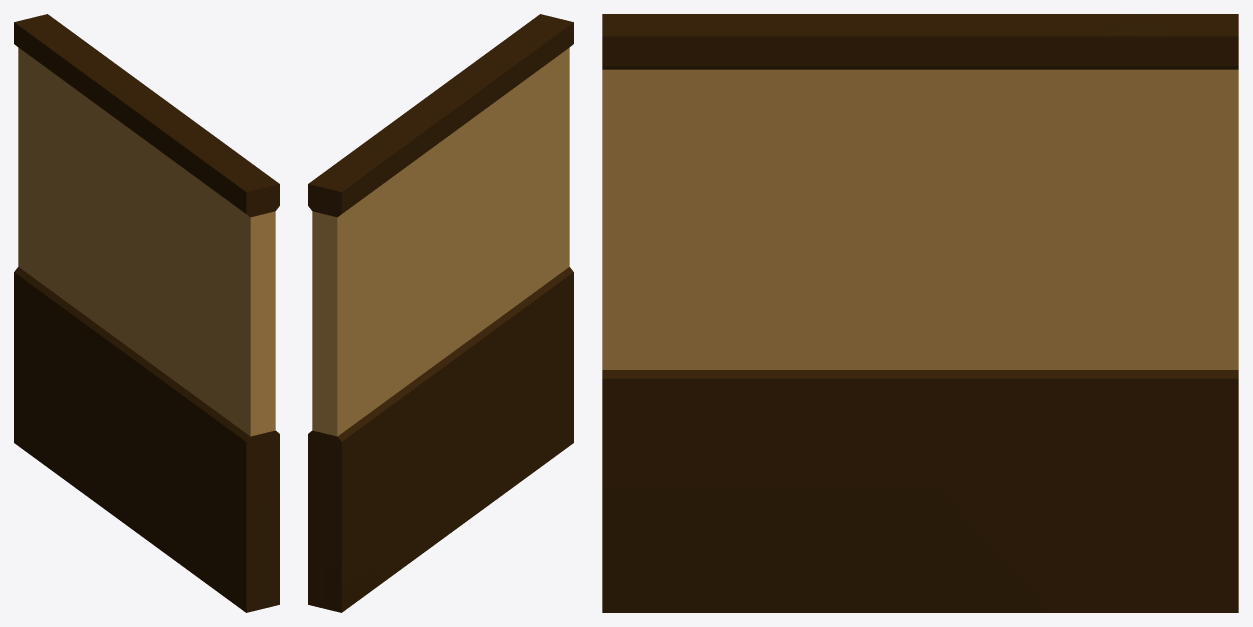
The model's file is Classic_Wall_snaps001.fbx.
The picture shows the model from 3 angles, left to right: view 1: azimuth 30°, elevation 25°; view 2: azimuth 150°, elevation 25°; view 3: azimuth 270°, elevation 25°; orthographic projection. The views are drawn at different scales.
Parts seen in each view (by area): view 1: Classic_Wall_snaps001_frag_001_frag_011, Classic_Wall_snaps001_frag_003_frag_018, Classic_Wall_snaps001_frag_005_frag_008, Classic_Wall_snaps001_frag_005_frag_002, Classic_Wall_snaps001_frag_014_frag_009, Classic_Wall_snaps001_frag_005_frag_011, Classic_Wall_snaps001_frag_001_frag_005, Classic_Wall_snaps001_frag_005_frag_007, Classic_Wall_snaps001_frag_012_frag_003, Classic_Wall_snaps001_frag_012_frag_009, Classic_Wall_snaps001_frag_014_frag_008, Classic_Wall_snaps001_frag_005_frag_010 (+51 smaller); view 2: Classic_Wall_snaps001_frag_005_frag_002, Classic_Wall_snaps001_frag_005_frag_008, Classic_Wall_snaps001_frag_001_frag_011, Classic_Wall_snaps001_frag_014_frag_008, Classic_Wall_snaps001_frag_005_frag_007, Classic_Wall_snaps001_frag_003_frag_018, Classic_Wall_snaps001_frag_014_frag_009, Classic_Wall_snaps001_frag_005_frag_011, Classic_Wall_snaps001_frag_012_frag_003, Classic_Wall_snaps001_frag_014_frag_012, Classic_Wall_snaps001_frag_012_frag_009, Classic_Wall_snaps001_frag_005_frag_010 (+47 smaller); view 3: Classic_Wall_snaps001_frag_005_frag_008, Classic_Wall_snaps001_frag_005_frag_011, Classic_Wall_snaps001_frag_014_frag_008, Classic_Wall_snaps001_frag_005_frag_006, Classic_Wall_snaps001_frag_012_frag_002, Classic_Wall_snaps001_frag_003_frag_018, Classic_Wall_snaps001_frag_001_frag_009, Classic_Wall_snaps001_frag_014_frag_012, Classic_Wall_snaps001_frag_001_frag_011, Classic_Wall_snaps001_frag_012_frag_009, Classic_Wall_snaps001_frag_005_frag_009, Classic_Wall_snaps001_frag_001_frag_001 (+47 smaller).
Boxes of the visible parts, box(x1,y1,x2,y2) form: Classic_Wall_snaps001_frag_001_frag_011: box(202, 358, 279, 557); Classic_Wall_snaps001_frag_003_frag_018: box(191, 218, 275, 353); Classic_Wall_snaps001_frag_005_frag_008: box(39, 22, 99, 257); Classic_Wall_snaps001_frag_005_frag_002: box(14, 182, 68, 335); Classic_Wall_snaps001_frag_014_frag_009: box(14, 357, 103, 443); Classic_Wall_snaps001_frag_005_frag_011: box(79, 118, 128, 270); Classic_Wall_snaps001_frag_001_frag_005: box(193, 524, 279, 612); Classic_Wall_snaps001_frag_005_frag_007: box(14, 17, 45, 162); Classic_Wall_snaps001_frag_012_frag_003: box(87, 426, 151, 517); Classic_Wall_snaps001_frag_012_frag_009: box(144, 335, 195, 441); Classic_Wall_snaps001_frag_014_frag_008: box(14, 304, 68, 403); Classic_Wall_snaps001_frag_005_frag_010: box(58, 51, 122, 161); Classic_Wall_snaps001_frag_005_frag_002: box(308, 348, 388, 508); Classic_Wall_snaps001_frag_005_frag_008: box(320, 148, 418, 313); Classic_Wall_snaps001_frag_001_frag_011: box(521, 206, 573, 383); Classic_Wall_snaps001_frag_014_frag_008: box(308, 400, 395, 586); Classic_Wall_snaps001_frag_005_frag_007: box(322, 169, 373, 328); Classic_Wall_snaps001_frag_003_frag_018: box(510, 78, 569, 205); Classic_Wall_snaps001_frag_014_frag_009: box(336, 446, 430, 591); Classic_Wall_snaps001_frag_005_frag_011: box(398, 179, 448, 316); Classic_Wall_snaps001_frag_012_frag_003: box(415, 397, 478, 558); Classic_Wall_snaps001_frag_014_frag_012: box(308, 494, 423, 612); Classic_Wall_snaps001_frag_012_frag_009: box(472, 263, 515, 397); Classic_Wall_snaps001_frag_005_frag_010: box(362, 125, 442, 199); Classic_Wall_snaps001_frag_005_frag_008: box(1013, 14, 1216, 280); Classic_Wall_snaps001_frag_005_frag_011: box(901, 71, 1081, 308); Classic_Wall_snaps001_frag_014_frag_008: box(1034, 355, 1238, 587); Classic_Wall_snaps001_frag_005_frag_006: box(990, 274, 1211, 463); Classic_Wall_snaps001_frag_012_frag_002: box(815, 444, 1027, 612); Classic_Wall_snaps001_frag_003_frag_018: box(602, 91, 779, 250); Classic_Wall_snaps001_frag_001_frag_009: box(622, 314, 781, 537); Classic_Wall_snaps001_frag_014_frag_012: box(985, 529, 1238, 612); Classic_Wall_snaps001_frag_001_frag_011: box(602, 310, 705, 547); Classic_Wall_snaps001_frag_012_frag_009: box(762, 311, 871, 472); Classic_Wall_snaps001_frag_005_frag_009: box(929, 14, 1105, 113); Classic_Wall_snaps001_frag_001_frag_001: box(664, 508, 826, 612).
Size of the model in its own units: 9.84 by 118 by 118.
